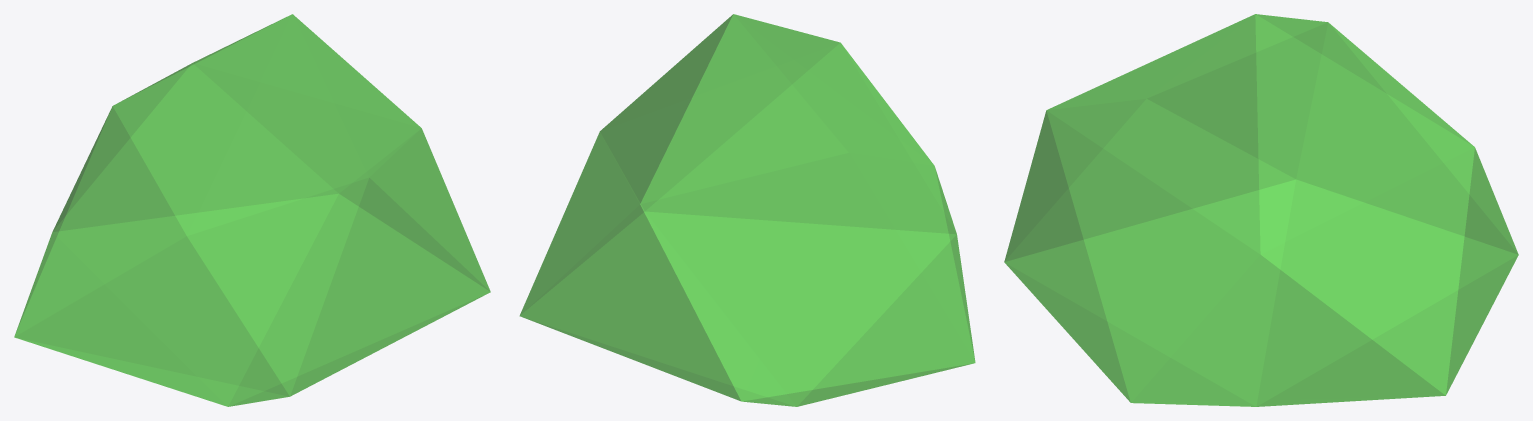
Rendered from Crsytal_8.fbx.
The picture shows the model from 3 angles, left to right: view 1: azimuth 30°, elevation 25°; view 2: azimuth 150°, elevation 25°; view 3: azimuth 270°, elevation 25°; orthographic projection. The views are drawn at different scales.
Visible parts, largest first — view 1: Cube; view 2: Cube; view 3: Cube.
Part boxes in pixels (x1=…): Cube: x1=14, y1=14, x2=490, y2=406; Cube: x1=519, y1=14, x2=975, y2=406; Cube: x1=1004, y1=14, x2=1518, y2=406.
Bounding box in the file's own units: 28.5 × 25.46 × 27.71.
